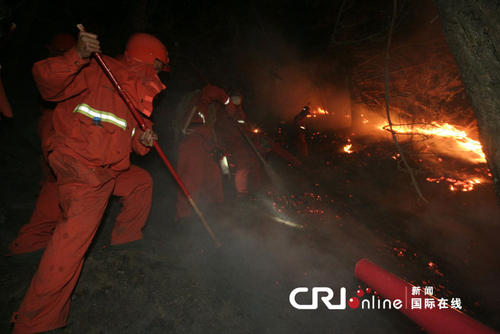fire: (380, 123, 485, 161), (451, 176, 488, 192)
